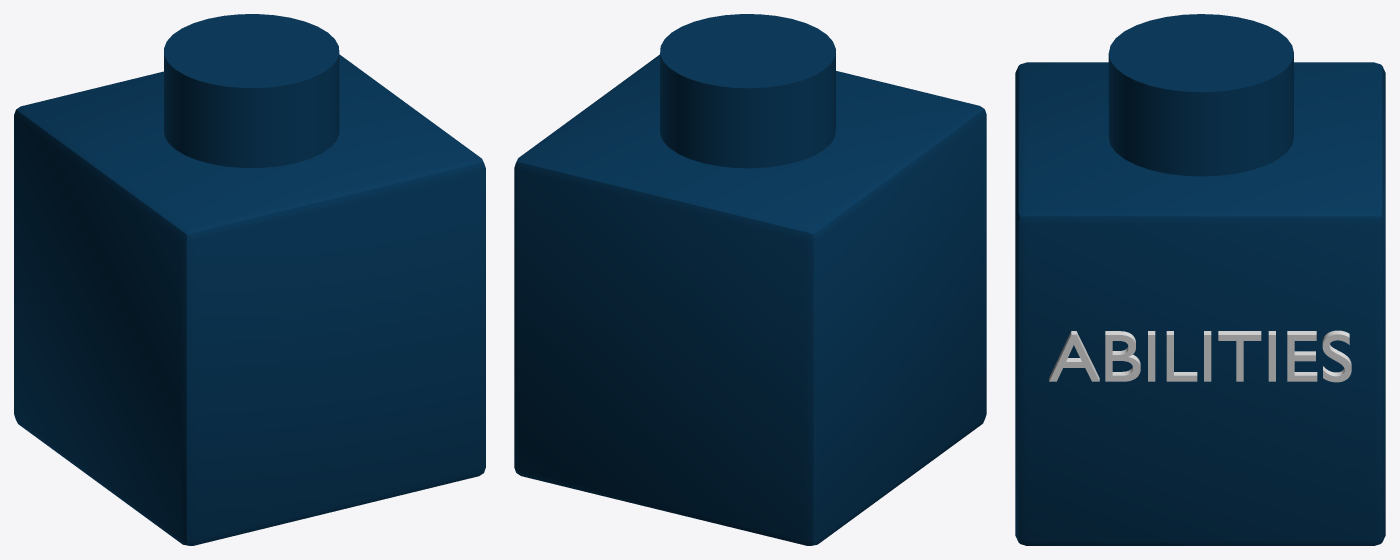
File: ABILITIES.fbx
3 renders of one model, left to right at view 1: azimuth 30°, elevation 25°; view 2: azimuth 150°, elevation 25°; view 3: azimuth 270°, elevation 25°, orthographic. The views are drawn at different scales.
Visible parts, largest first — view 1: Cube, Cylinder; view 2: Cube, Cylinder; view 3: Cube, Cylinder, Text.001.
Boxes of the visible parts, left/top/right/bottom form: Cube: left=14, top=54, right=485, bottom=545; Cylinder: left=164, top=14, right=339, bottom=167; Cube: left=514, top=54, right=986, bottom=545; Cylinder: left=660, top=14, right=835, bottom=168; Cube: left=1015, top=62, right=1385, bottom=545; Cylinder: left=1108, top=14, right=1293, bottom=176; Text.001: left=1049, top=330, right=1351, bottom=382.
Size of the model in its own units: 205 by 250 by 200.
